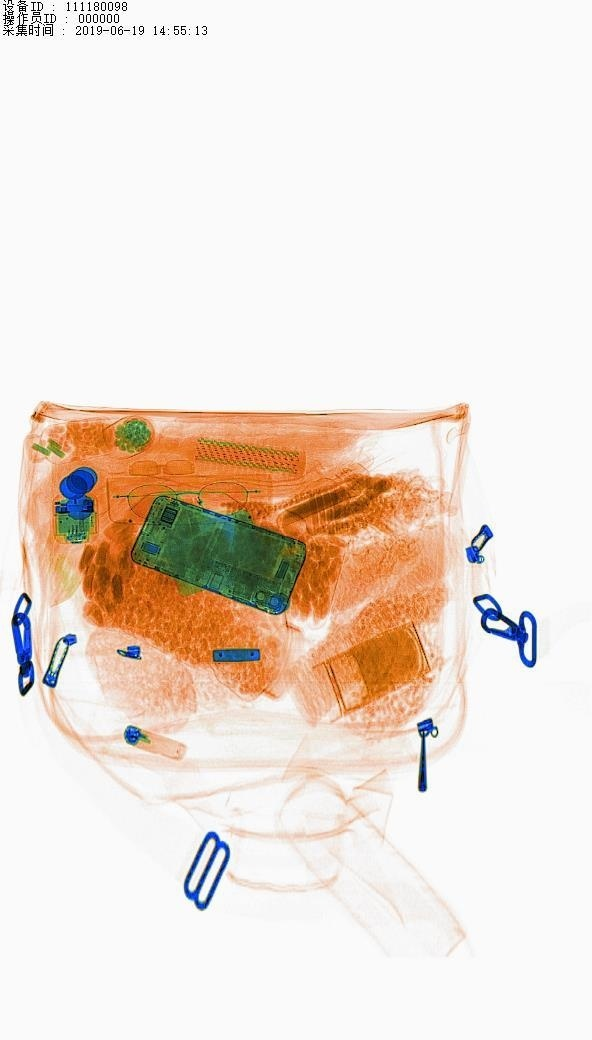NonmetallicFire: (117, 713, 202, 783)
